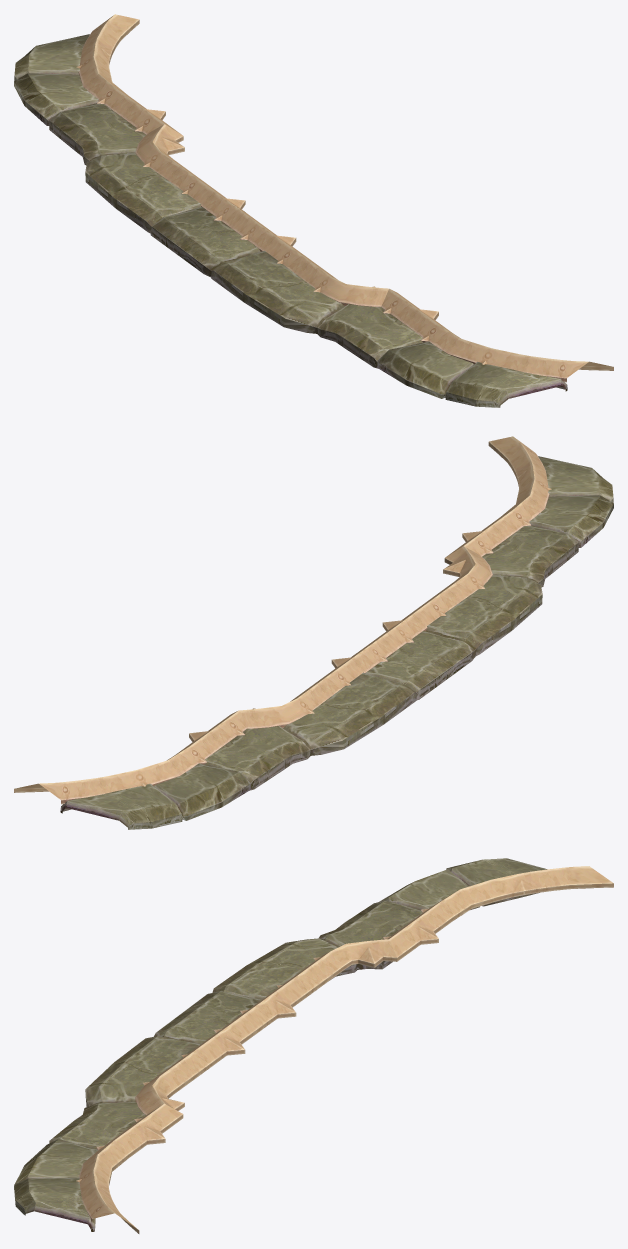
The model's file is Dam_Trims_A.fbx.
3 renders of one model, top to bottom at view 1: azimuth 30°, elevation 25°; view 2: azimuth 150°, elevation 25°; view 3: azimuth 330°, elevation 25°, orthographic.
Visible parts, largest first — view 1: Dn_HL_Dam_CenterPiece_Grate_E.001; view 2: Dn_HL_Dam_CenterPiece_Grate_E.001; view 3: Dn_HL_Dam_CenterPiece_Grate_E.001.
Part boxes in pixels (left/top/right/bottom): Dn_HL_Dam_CenterPiece_Grate_E.001: left=14, top=14, right=613, bottom=407; Dn_HL_Dam_CenterPiece_Grate_E.001: left=14, top=436, right=613, bottom=829; Dn_HL_Dam_CenterPiece_Grate_E.001: left=14, top=858, right=613, bottom=1233.
Size of the model in its own units: 6043 by 790 by 25188.
Materials: 1 (1 with a texture image).
